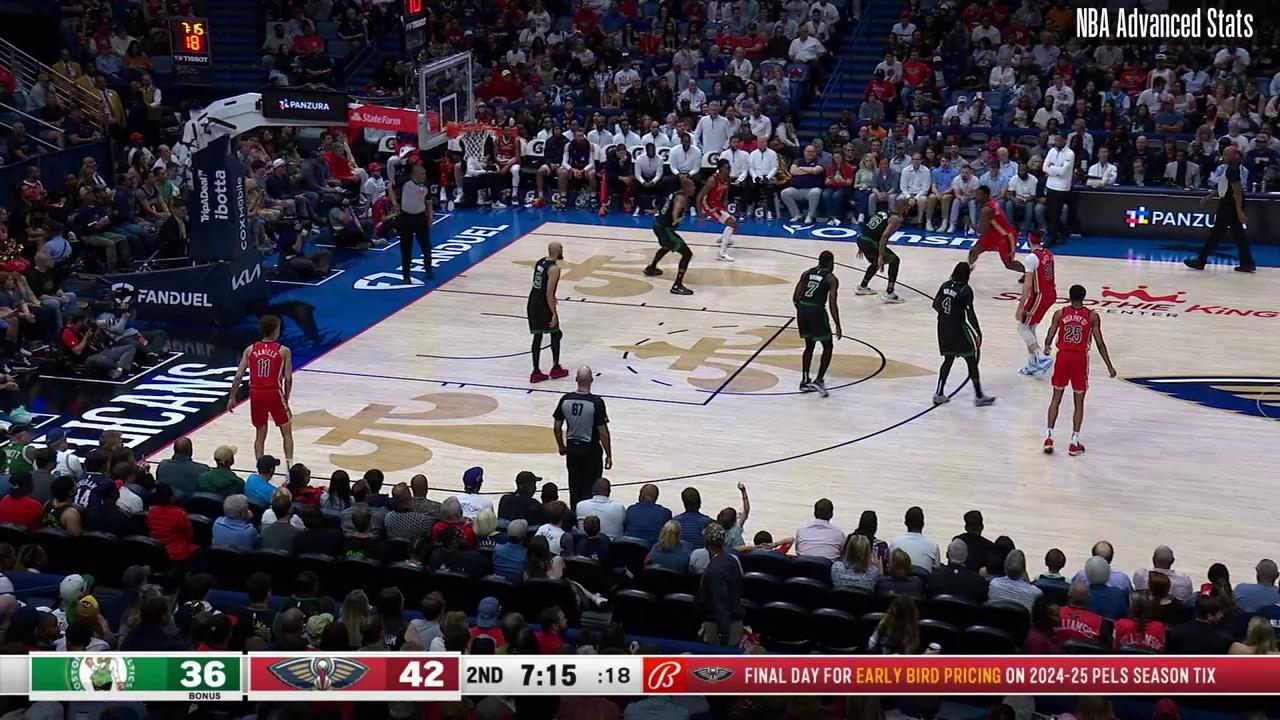3_dx: (524, 230, 531, 237)
3_sx: (515, 654, 582, 692), (137, 458, 145, 465)
b_dx: (543, 219, 549, 225)
free_adx: (790, 315, 797, 321)
free_asx: (700, 401, 709, 408)
free_bdx: (429, 286, 437, 294)
free_bsx: (294, 365, 303, 373)
referee: (1183, 146, 1258, 274), (553, 366, 615, 509), (393, 163, 437, 281)
team: (931, 262, 995, 407), (792, 250, 843, 397), (853, 193, 910, 303), (645, 177, 694, 296), (527, 242, 568, 384)
team1: (1045, 286, 1119, 456), (228, 314, 300, 480), (960, 185, 1028, 283), (1016, 228, 1056, 377), (698, 161, 741, 264)
